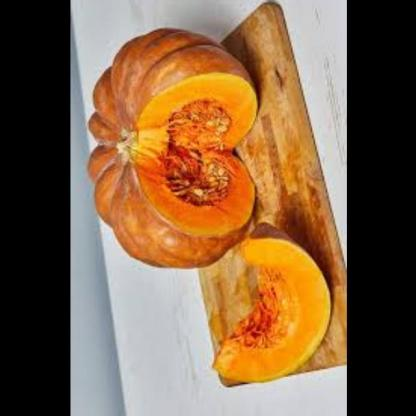pumpkin: (78, 21, 267, 273), (208, 215, 337, 390)
